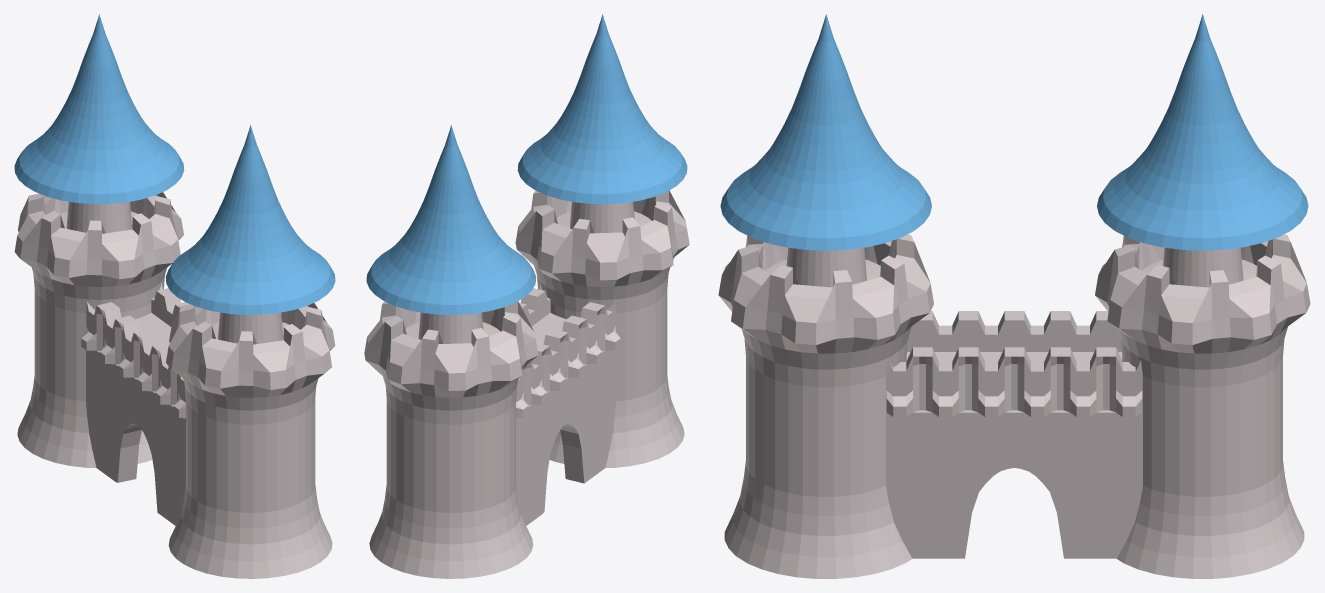
File: castle.glb
3 views of the same model, side by side, from view 1: azimuth 30°, elevation 25°; view 2: azimuth 150°, elevation 25°; view 3: azimuth 270°, elevation 25° (orthographic). The views are drawn at different scales.
Visible parts, largest first — view 1: Cylinder.003, Cylinder.004, Cylinder.002, Cylinder.001, Cube, Cube.002; view 2: Cylinder.004, Cylinder.003, Cylinder.001, Cylinder.002, Cube, Cube.002; view 3: Cylinder.004, Cylinder.003, Cube.001, Cylinder.002, Cylinder.001, Cube.002.
Boxes of the visible parts, box(x1,y1,x2,y2) form: Cylinder.003: box(166, 303, 335, 578); Cylinder.004: box(14, 192, 183, 467); Cylinder.002: box(165, 125, 335, 314); Cylinder.001: box(14, 14, 184, 204); Cube: box(86, 350, 185, 525); Cube.002: box(81, 283, 194, 418); Cylinder.004: box(364, 301, 538, 578); Cylinder.003: box(515, 190, 689, 467); Cylinder.001: box(366, 125, 536, 314); Cylinder.002: box(517, 14, 687, 204); Cube: box(516, 350, 615, 525); Cube.002: box(516, 283, 620, 418); Cylinder.004: box(1095, 234, 1310, 578); Cylinder.003: box(718, 234, 933, 578); Cube.001: box(886, 410, 1142, 558); Cylinder.002: box(720, 14, 931, 250); Cylinder.001: box(1097, 14, 1308, 250); Cube.002: box(886, 311, 1142, 416).
Bounding box in the file's own units: 16.04 × 42.84 × 44.04.
